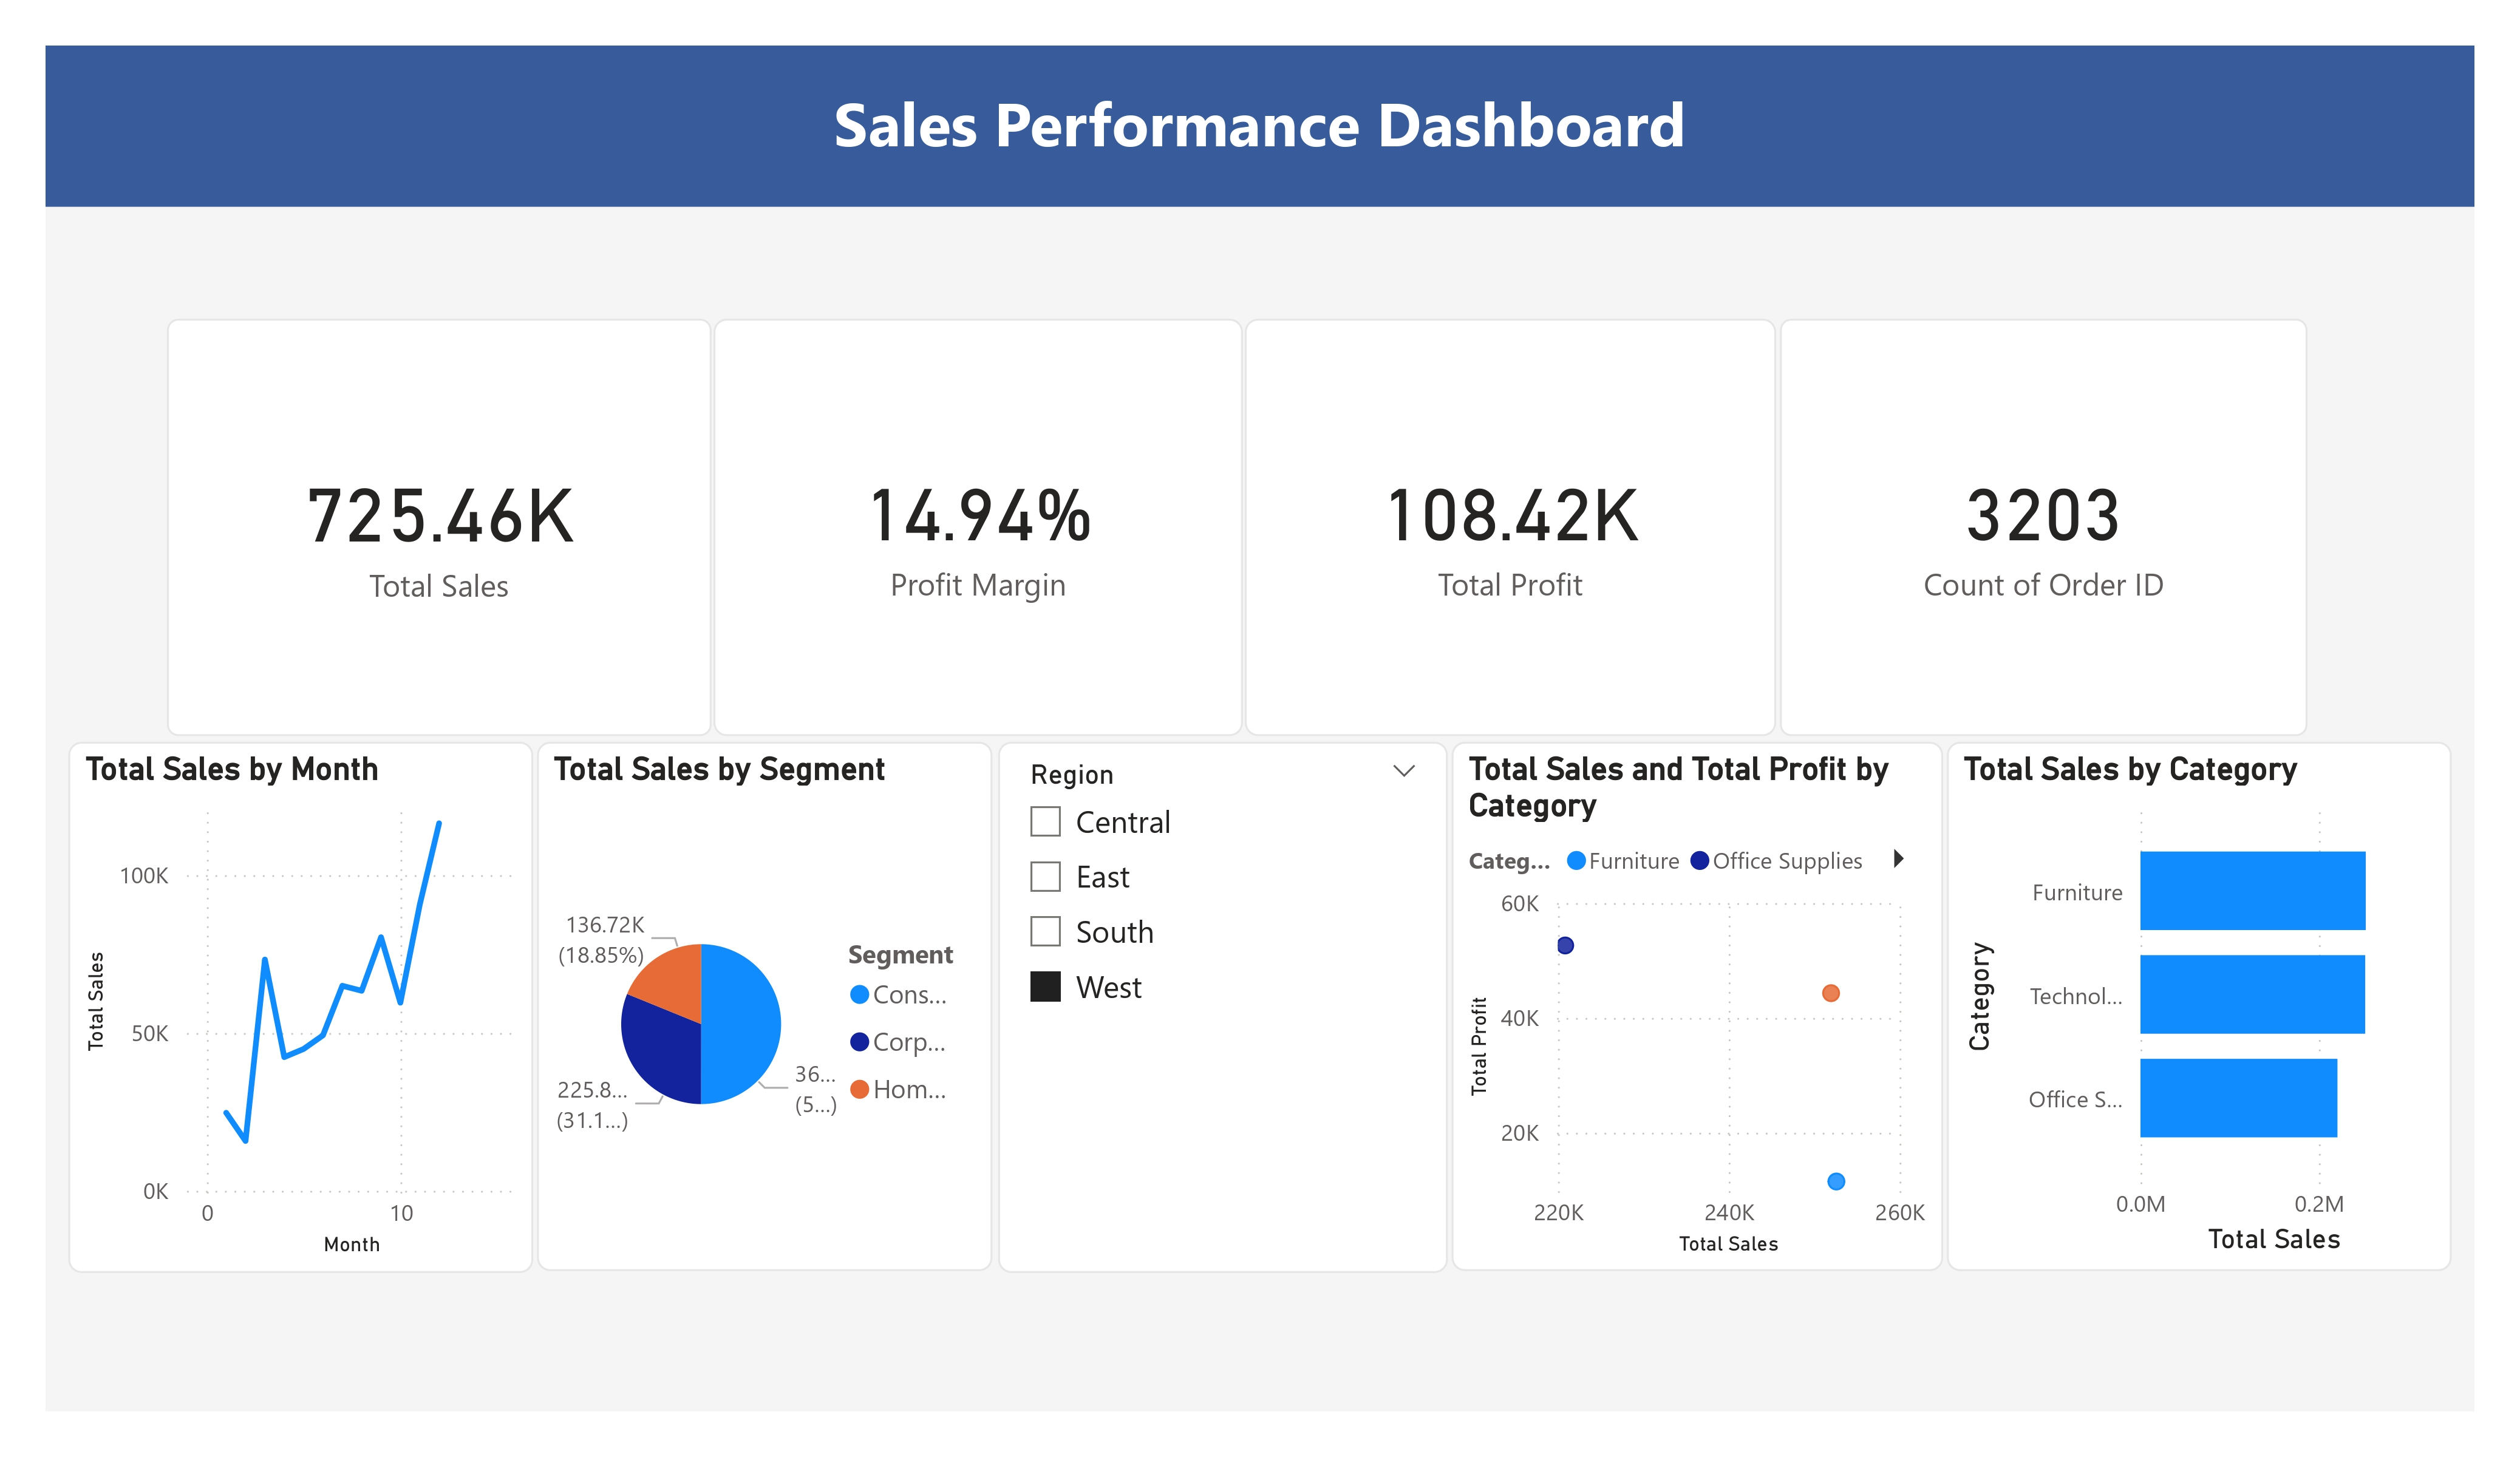

The page's visual inventory and layout, read from the dashboard file:
{"tool":"powerbi","page":{"name":"Page 1","canvas":[1280,720],"ordinal":0},"visuals":[{"type":"card","fields":{"Values":["Orders.Total Sales"]},"box":[64.1,143.8,286.7,220],"z":0},{"type":"card","fields":{"Values":["Orders.Total Profit"]},"box":[632.4,143.8,280,220],"z":1000},{"type":"card","fields":{"Values":["CountNonNull(Orders.Order ID)"]},"box":[914.1,143.8,278.3,220],"z":2000},{"type":"card","fields":{"Values":["Orders.Profit Margin"]},"box":[352.4,143.8,278.3,220],"z":3000},{"type":"clusteredBarChart","fields":{"Category":["Orders.Category"],"Y":["Orders.Total Sales"]},"box":[1002.5,367.2,265.7,278.6],"z":4000},{"type":"lineChart","fields":{"Category":["Orders.Month"],"Y":["Orders.Total Sales"]},"box":[12.5,367.2,244.3,280],"z":5000},{"type":"pieChart","fields":{"Category":["Orders.Segment"],"Y":["Orders.Total Sales"]},"box":[259.3,367.2,240,278.6],"z":6000},{"type":"slicer","fields":{"Values":["Orders.Region"]},"box":[501.8,367.2,237.1,280],"z":7000},{"type":"scatterChart","fields":{"X":["Orders.Total Sales"],"Y":["Orders.Total Profit"],"Series":["Orders.Category"]},"box":[741.4,367.2,258.6,278.6],"z":8000},{"type":"shape","box":[0,0,1280,85],"z":9000},{"type":"textbox","box":[0,13.3,1280,55],"z":10001}]}

Visuals, with their boxes on the page's 1280x720 design canvas (x1, y1, x2, y2). These are canvas units, not pixel positions in the 2520x1457 screenshot, which may show the page scaled, cropped or inside an application window:
card - Orders.Total Sales: crop(64, 144, 351, 364)
card - Orders.Total Profit: crop(632, 144, 912, 364)
card - CountNonNull(Orders.Order ID): crop(914, 144, 1192, 364)
card - Orders.Profit Margin: crop(352, 144, 631, 364)
clusteredBarChart - Orders.Category x Orders.Total Sales: crop(1002, 367, 1268, 646)
lineChart - Orders.Month x Orders.Total Sales: crop(12, 367, 257, 647)
pieChart - Orders.Segment x Orders.Total Sales: crop(259, 367, 499, 646)
slicer - Orders.Region: crop(502, 367, 739, 647)
scatterChart - Orders.Total Sales x Orders.Total Profit: crop(741, 367, 1000, 646)
shape: crop(0, 0, 1280, 85)
textbox: crop(0, 13, 1280, 68)
